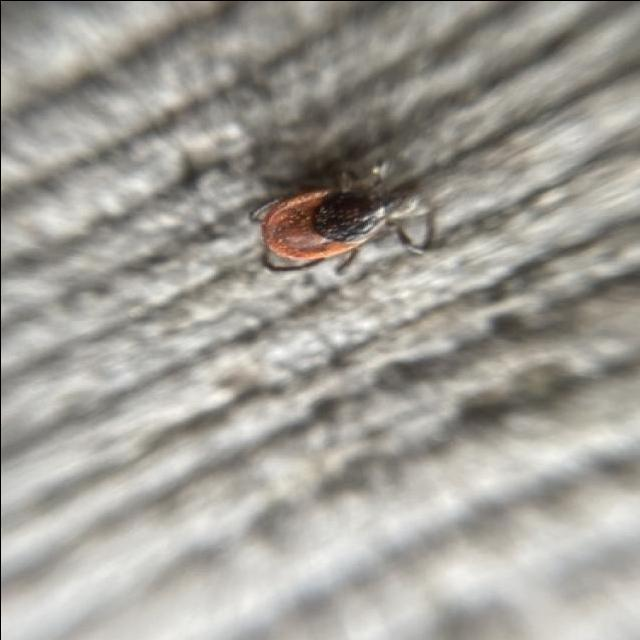Ixodes Ricinus-F: (247, 169, 433, 274)
